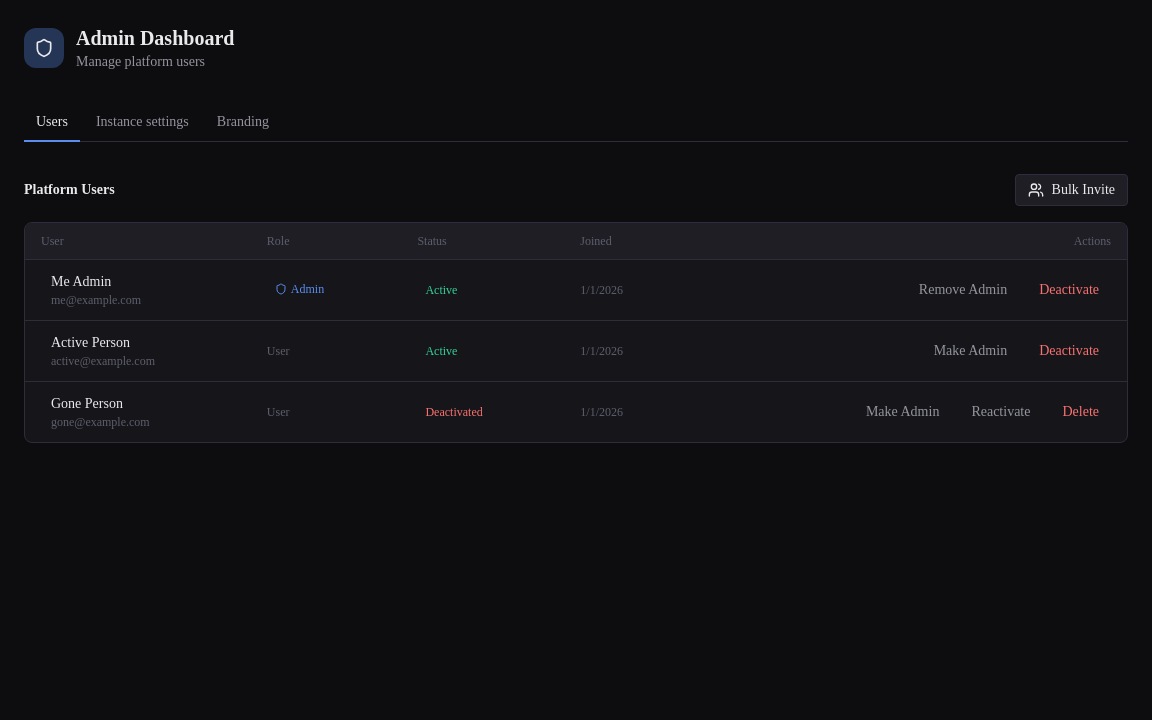
Scenario: Admin users: Delete › keeps the dialog open and shows the error when the delete fails
Click the button "Delete" at (1081, 412), box [1050,396,1111,428]
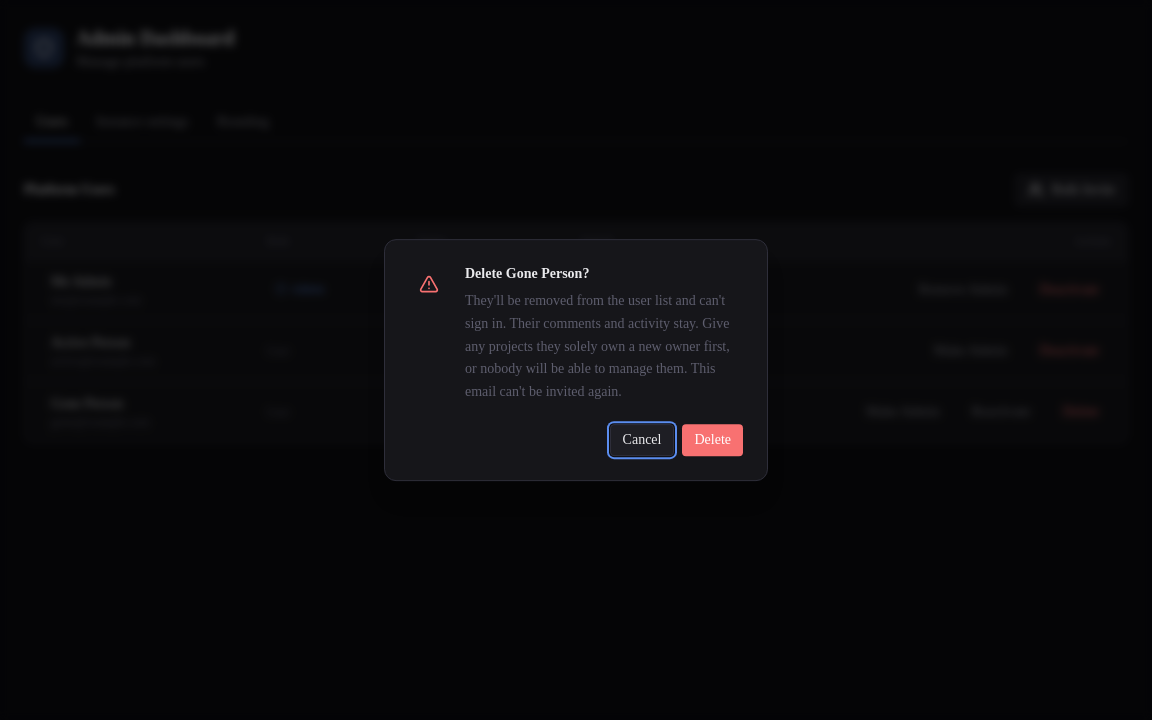
Click the button "Delete" at (713, 440), box [682,424,743,456]
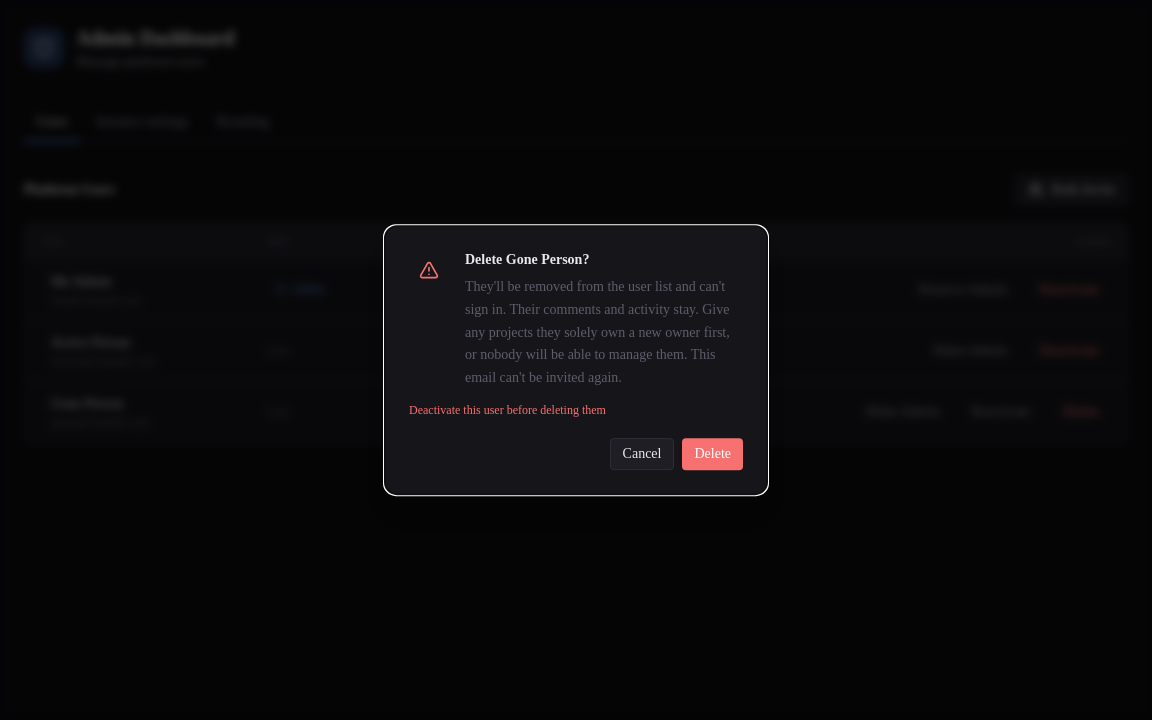
Now the dialog is shown, box [384,225,768,495]
Now the text "Deactivate this user before deleting them" is shown, box [409,403,606,417]
